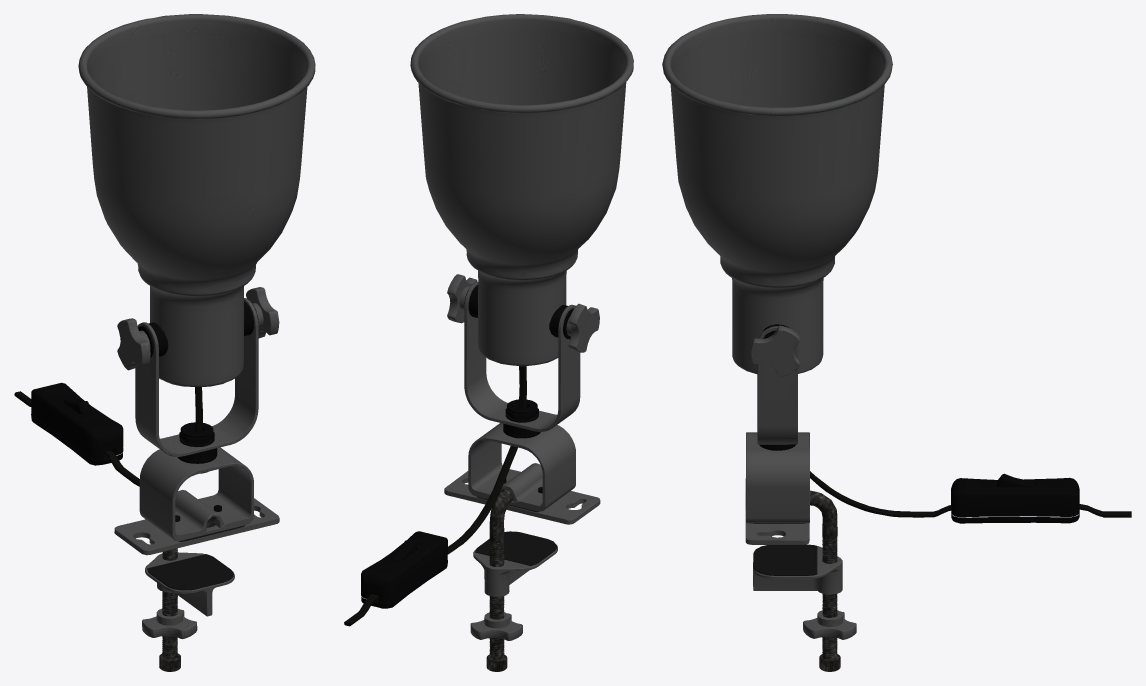
File: hektar_reflektor_z_klamra_scienny_80215308.glb
3 renders of one model, left to right at view 1: azimuth 30°, elevation 25°; view 2: azimuth 150°, elevation 25°; view 3: azimuth 270°, elevation 25°, orthographic. The views are drawn at different scales.
Visible parts, largest first — view 1: hektar_reflektor_z_klamra_scienny_80215308; view 2: hektar_reflektor_z_klamra_scienny_80215308; view 3: hektar_reflektor_z_klamra_scienny_80215308.
Boxes of the visible parts, x1,y1,x2,y2 form: hektar_reflektor_z_klamra_scienny_80215308: [14, 14, 315, 671]; hektar_reflektor_z_klamra_scienny_80215308: [344, 14, 633, 671]; hektar_reflektor_z_klamra_scienny_80215308: [662, 14, 1131, 671].
Bounding box in the file's own units: 0.1079 × 0.3141 × 0.2202.
1 material, 1 textured.
